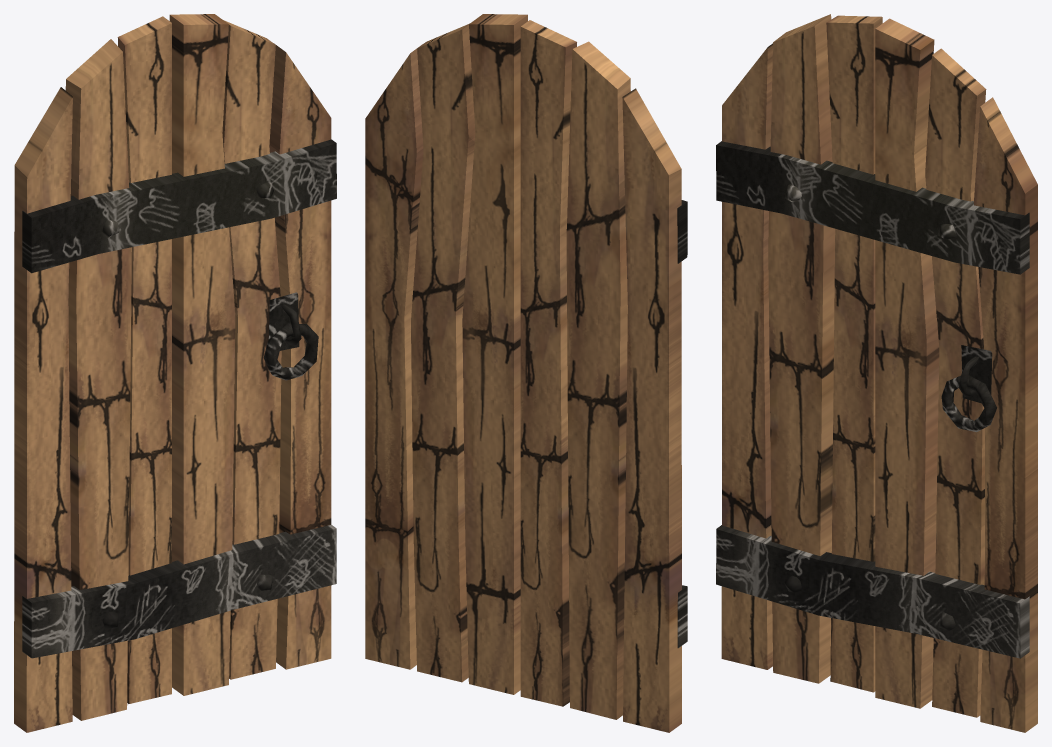
File: door.glb
3 views of the same model, side by side, from view 1: azimuth 30°, elevation 25°; view 2: azimuth 150°, elevation 25°; view 3: azimuth 330°, elevation 25° (orthographic).
Parts seen in each view (by area): view 1: Door_1.001; view 2: Door_1.001; view 3: Door_1.001.
Boxes of the visible parts, left/top/right/bottom form: Door_1.001: left=14, top=14, right=336, bottom=732; Door_1.001: left=365, top=14, right=687, bottom=732; Door_1.001: left=716, top=14, right=1037, bottom=732.
Size of the model in its own units: 0.5737 by 1.2 by 0.0919.
Materials: 2 (2 with a texture image).
